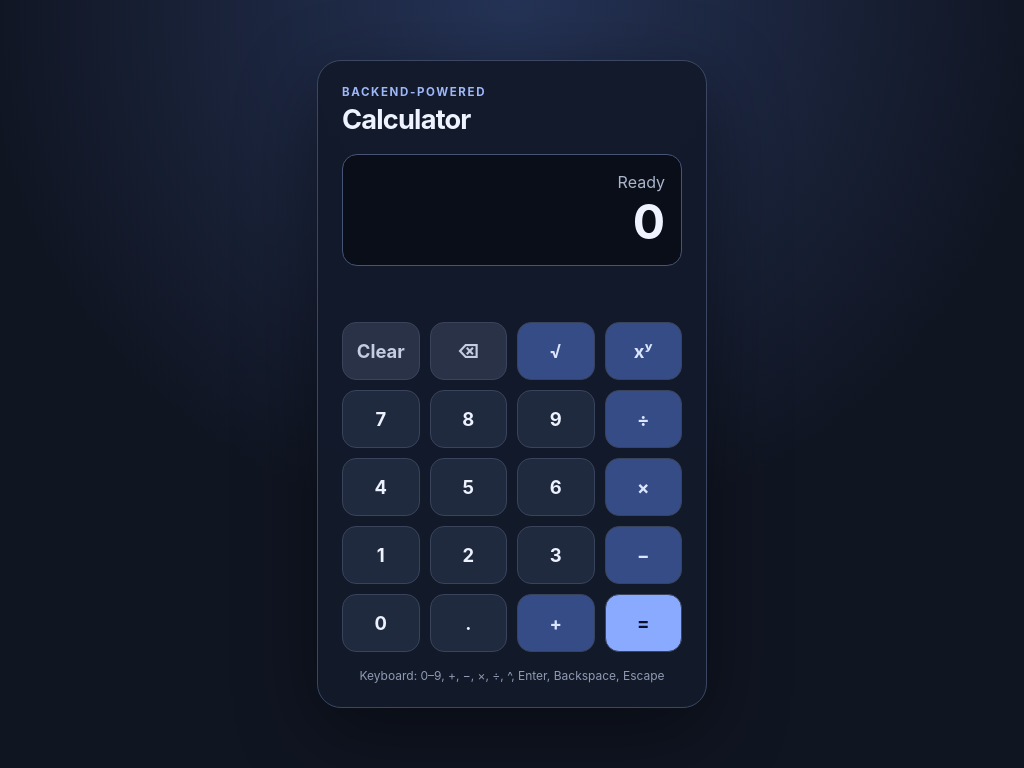
Scenario: App › submits add to the backend and displays its result
Type keys "1.5"
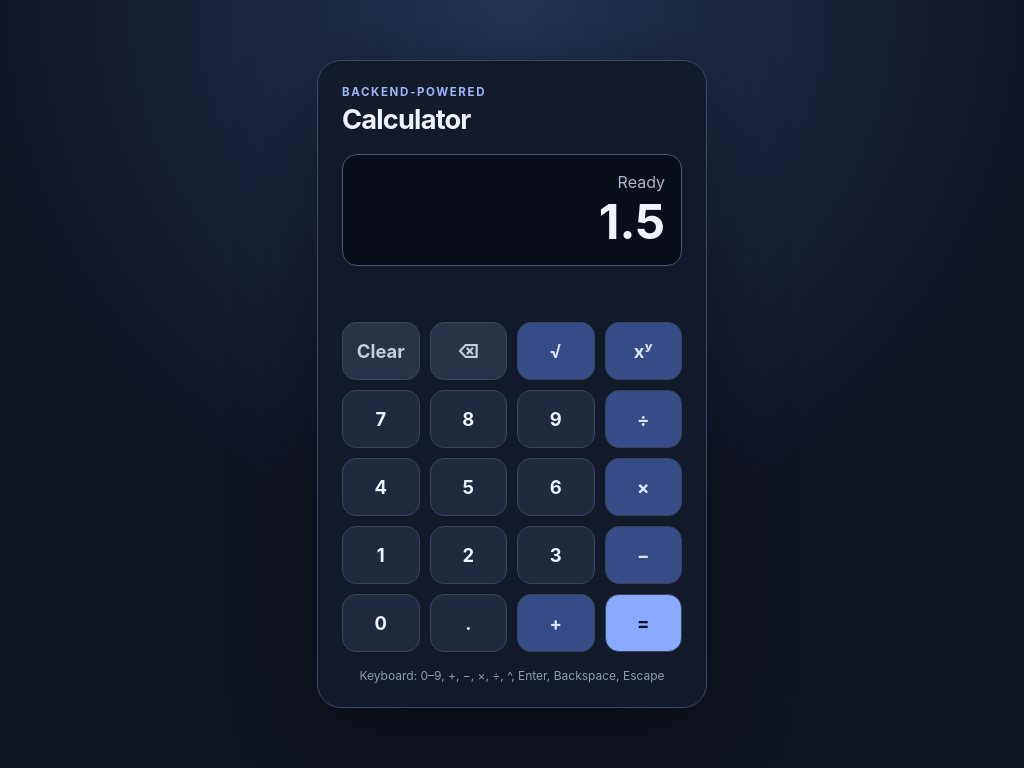
Click the button named "Add" at (556, 623), box [517,594,594,652]
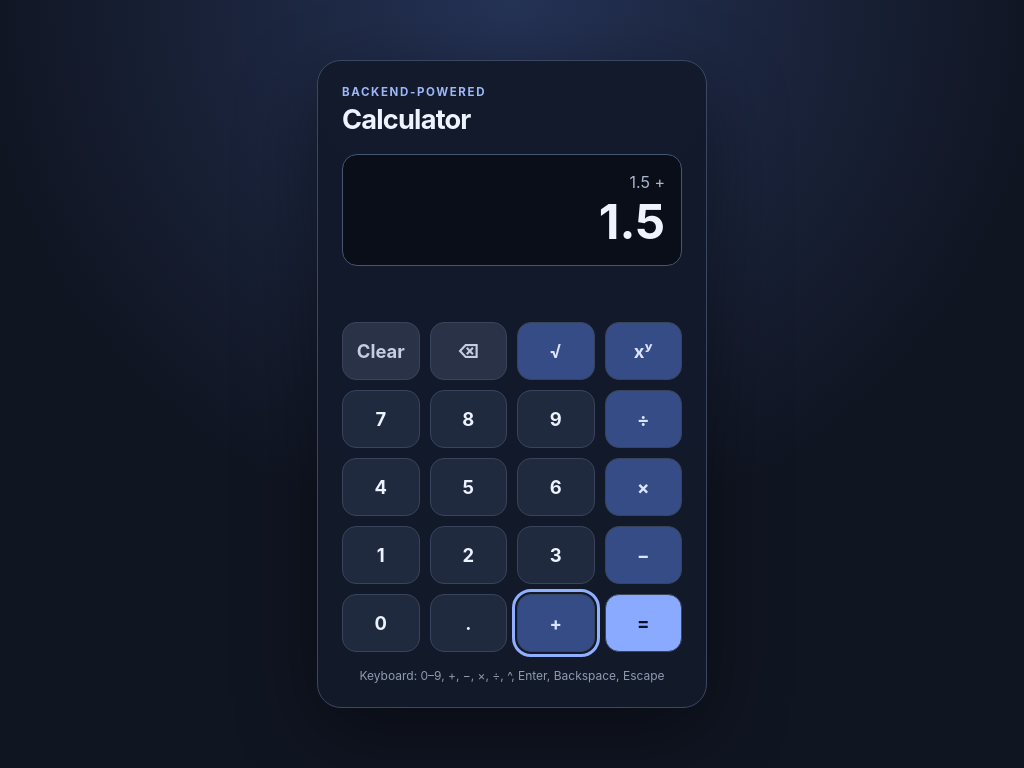
Type keys "2.25"
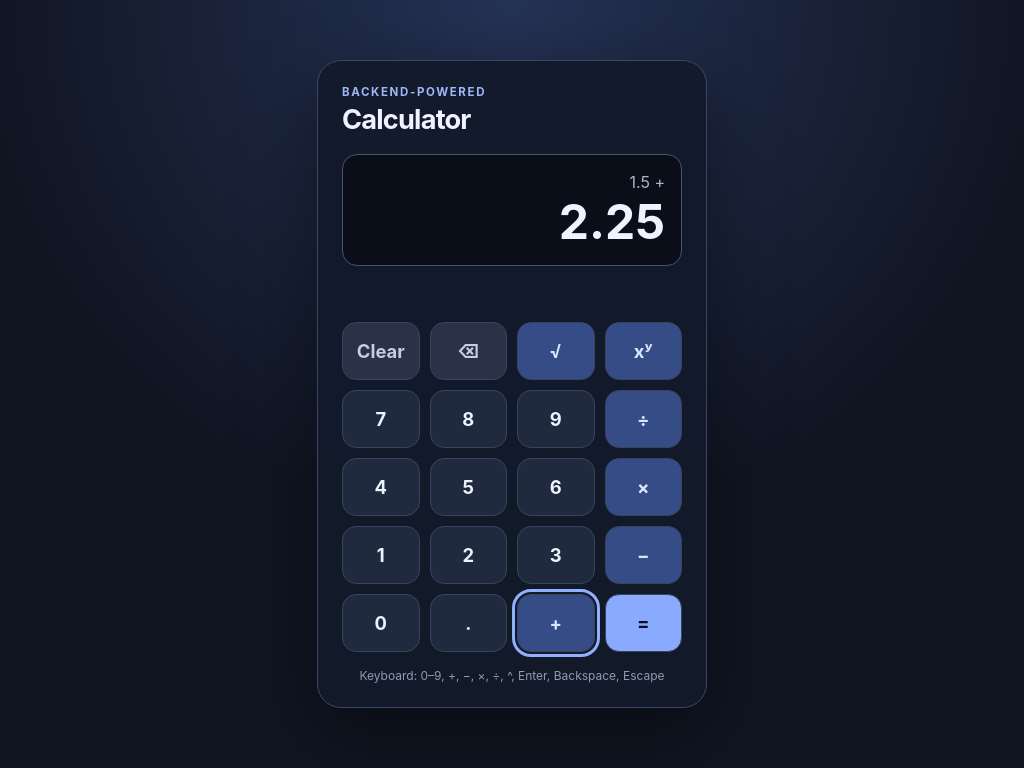
Click the button named "Equals" at (643, 623), box [604,594,682,652]
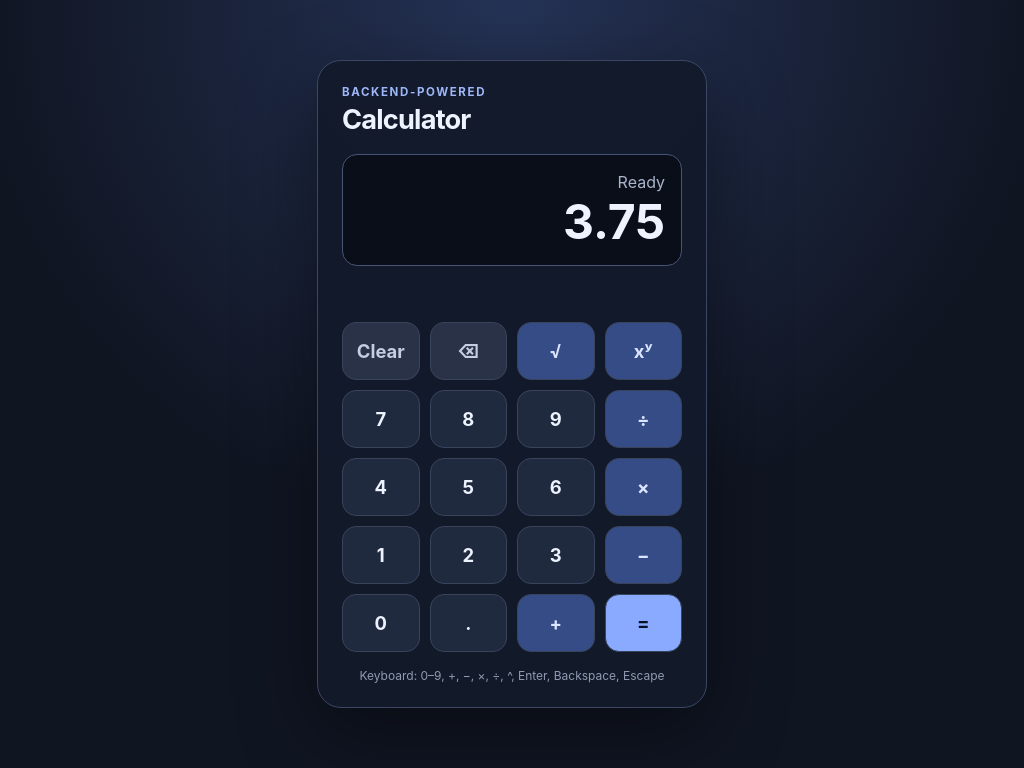
Check: the text with test id "display" reads "3.75", box [563,192,665,251]
